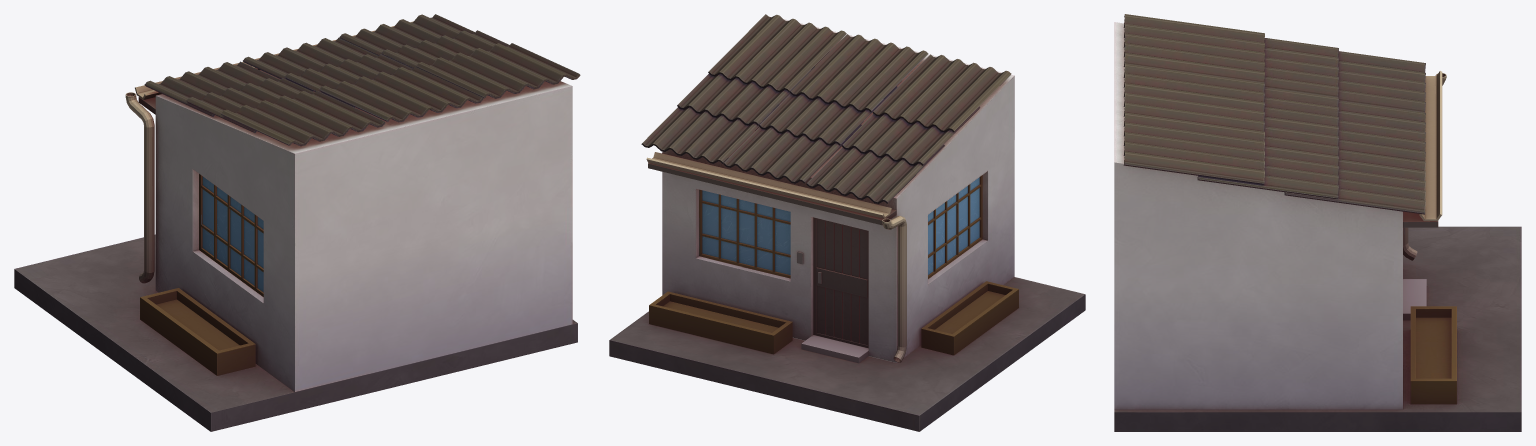
Rendered from casa-techo-ondulado.glb.
The picture shows the model from 3 angles, left to right: view 1: azimuth 30°, elevation 25°; view 2: azimuth 150°, elevation 25°; view 3: azimuth 270°, elevation 25°; orthographic projection. The views are drawn at different scales.
Parts seen in each view (by area): view 1: Paredes.001, Techo.001, Piso.001, macetas.001, Ventana.001, Material.006; view 2: Techo.001, Paredes.001, Piso.001, Ventana.001, macetas.001, Puerta.001, Canal, Base techo.001, Material.006, Escalon.001; view 3: Paredes.001, Techo.001, Piso.001, macetas.001, Canal, Escalon.001, Base techo.001.
Part boxes in pixels (x1=…): Paredes.001: x1=155, y1=70, x2=572, y2=392; Techo.001: x1=144, y1=14, x2=580, y2=146; Piso.001: x1=14, y1=234, x2=577, y2=431; macetas.001: x1=140, y1=288, x2=255, y2=375; Ventana.001: x1=199, y1=174, x2=263, y2=296; Material.006: x1=125, y1=92, x2=154, y2=283; Techo.001: x1=641, y1=14, x2=1011, y2=203; Paredes.001: x1=662, y1=19, x2=1014, y2=362; Piso.001: x1=609, y1=277, x2=1085, y2=431; Ventana.001: x1=699, y1=175, x2=982, y2=278; macetas.001: x1=649, y1=281, x2=1018, y2=355; Puerta.001: x1=813, y1=217, x2=868, y2=348; Canal: x1=646, y1=152, x2=891, y2=218; Base techo.001: x1=648, y1=153, x2=896, y2=225; Material.006: x1=882, y1=216, x2=906, y2=362; Escalon.001: x1=801, y1=335, x2=868, y2=363; Paredes.001: x1=1114, y1=22, x2=1402, y2=409; Techo.001: x1=1123, y1=14, x2=1425, y2=214; Piso.001: x1=1114, y1=226, x2=1521, y2=431; macetas.001: x1=1410, y1=306, x2=1456, y2=404; Canal: x1=1419, y1=71, x2=1442, y2=221; Escalon.001: x1=1403, y1=279, x2=1426, y2=320; Base techo.001: x1=1403, y1=211, x2=1438, y2=227.
Size of the model in its own units: 5.94 by 4.02 by 5.38.
Materials: 11 (11 with a texture image).
